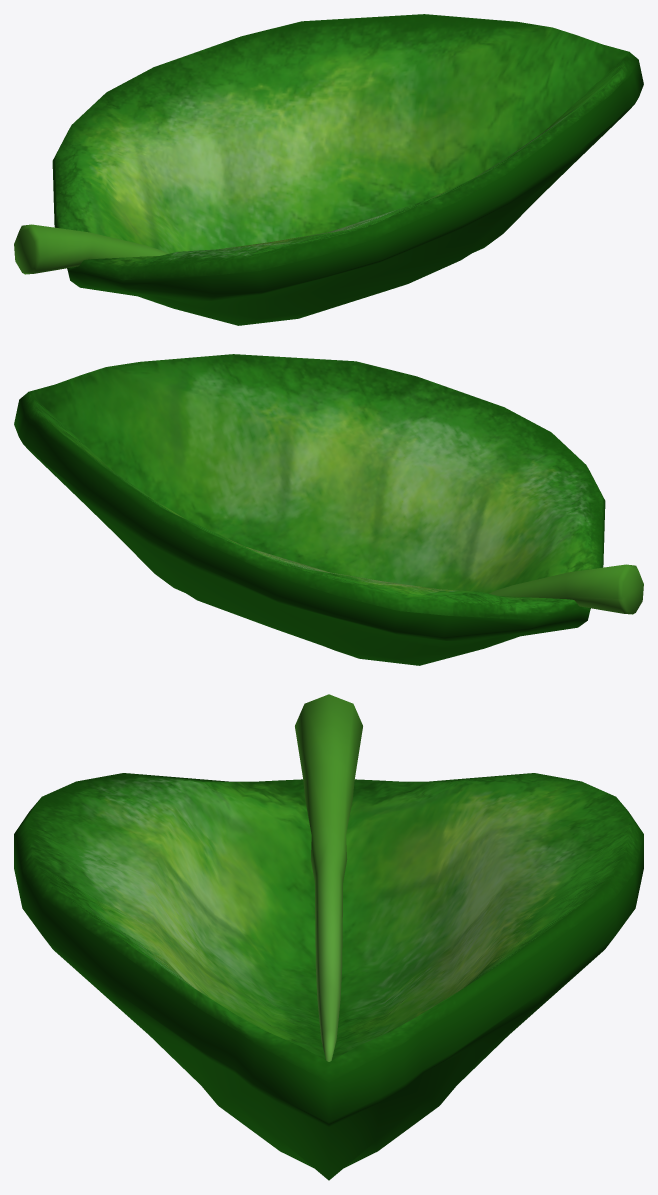
File: BarcoFolha.fbx
The picture shows the model from 3 angles, top to bottom: view 1: azimuth 30°, elevation 25°; view 2: azimuth 150°, elevation 25°; view 3: azimuth 270°, elevation 25°; orthographic projection. The views are drawn at different scales.
Parts seen in each view (by area): view 1: Folhas1.002; view 2: Folhas1.002; view 3: Folhas1.002.
Part boxes in pixels (<box>): Folhas1.002: <box>14,14,643,325</box>; Folhas1.002: <box>14,354,643,665</box>; Folhas1.002: <box>14,694,643,1180</box>.
Bounding box in the file's own units: 306 × 91.69 × 193.
